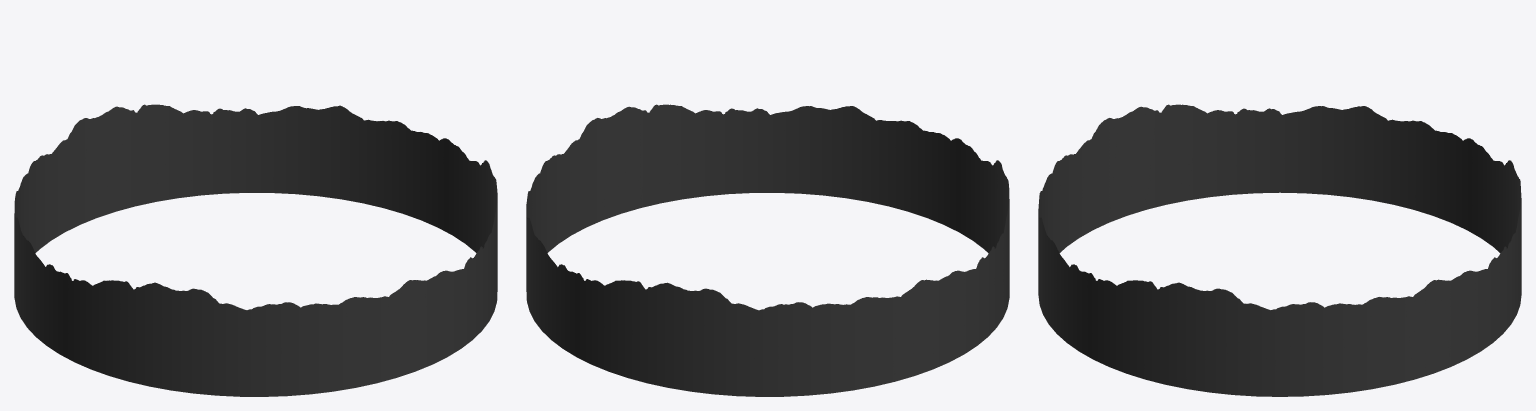
File: Mountian Cylinder.fbx
3 views of the same model, side by side, from view 1: azimuth 30°, elevation 25°; view 2: azimuth 150°, elevation 25°; view 3: azimuth 270°, elevation 25° (orthographic).
Visible parts, largest first — view 1: MountianCylinder; view 2: MountianCylinder; view 3: MountianCylinder.
Boxes of the visible parts, box(x1,y1,x2,y2) form: MountianCylinder: box(14, 104, 497, 396); MountianCylinder: box(526, 104, 1009, 396); MountianCylinder: box(1038, 104, 1521, 396).
Bounding box in the file's own units: 4925 × 2011 × 4925.
1 material, 1 textured.
